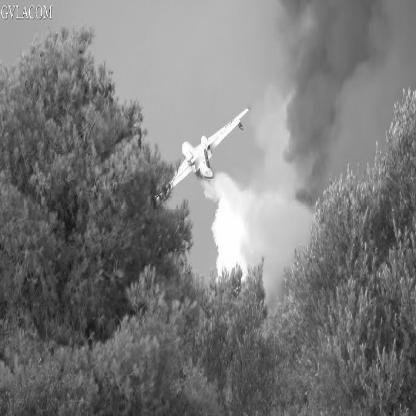Be200: (155, 107, 252, 203)
